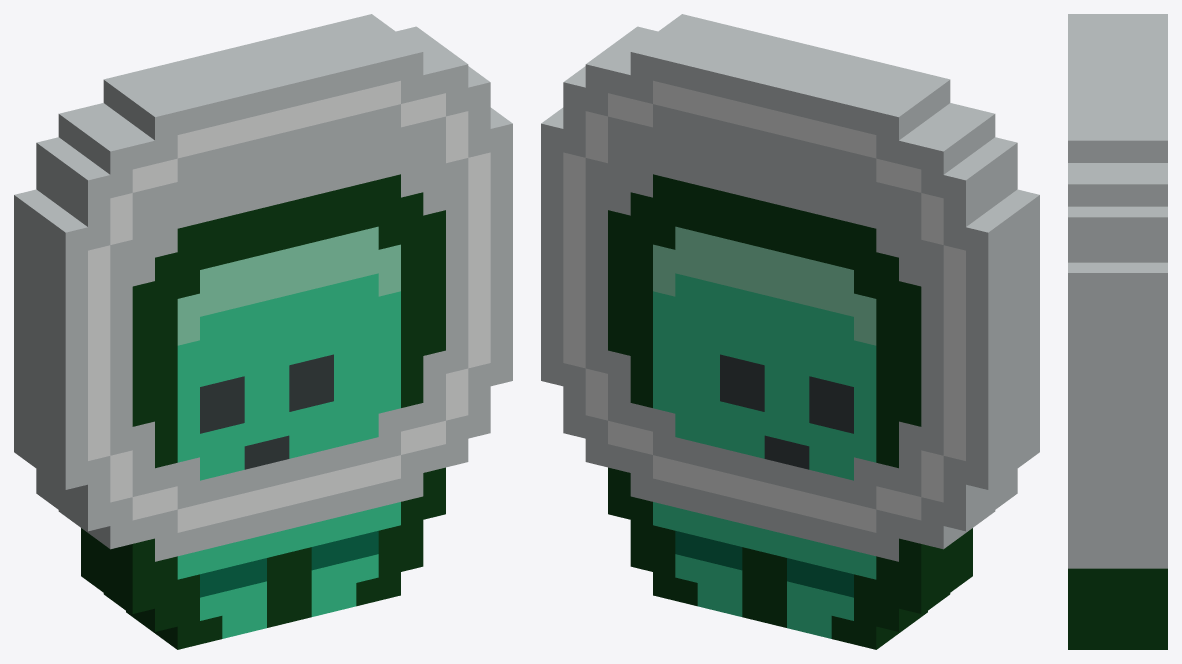
File: chaz.glb
The picture shows the model from 3 angles, left to right: view 1: azimuth 30°, elevation 25°; view 2: azimuth 150°, elevation 25°; view 3: azimuth 270°, elevation 25°; orthographic projection. The views are drawn at different scales.
Parts seen in each view (by area): view 1: unnamed_mesh1; view 2: unnamed_mesh1; view 3: unnamed_mesh1.
Part boxes in pixels (x1,y1,x2,y2): unnamed_mesh1: (14, 14, 512, 649); unnamed_mesh1: (541, 14, 1039, 649); unnamed_mesh1: (1068, 14, 1167, 649).
Bounding box in the file's own units: 20 × 23 × 4.
Materials: 1 (1 with a texture image).
